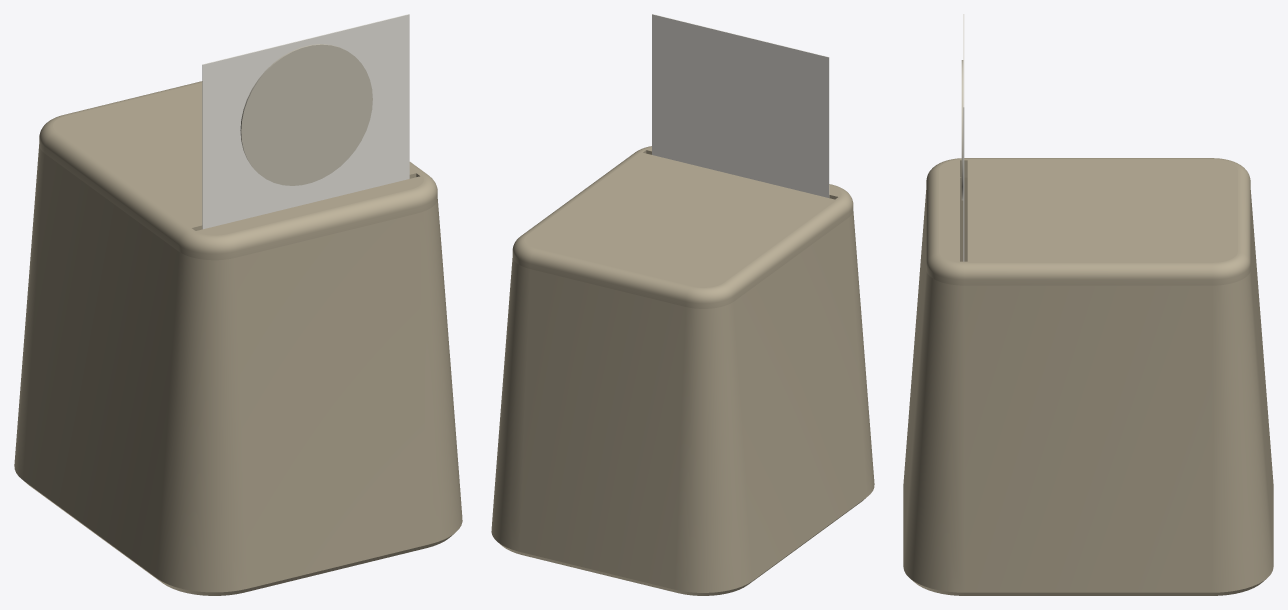
The model's file is dispenser.glb.
3 views of the same model, side by side, from view 1: azimuth 30°, elevation 25°; view 2: azimuth 150°, elevation 25°; view 3: azimuth 270°, elevation 25° (orthographic). The views are drawn at different scales.
Parts seen in each view (by area): view 1: part0_0, part1_0, part2_0, part3_0; view 2: part0_0, part1_0, part2_0; view 3: part0_0, part1_0, part2_0.
Part boxes in pixels (x1=…): part0_0: x1=14, y1=144, x2=462, y2=595; part1_0: x1=39, y1=81, x2=437, y2=260; part2_0: x1=202, y1=14, x2=409, y2=229; part3_0: x1=240, y1=44, x2=372, y2=185; part0_0: x1=491, y1=211, x2=874, y2=595; part1_0: x1=512, y1=146, x2=853, y2=308; part2_0: x1=652, y1=14, x2=829, y2=197; part0_0: x1=903, y1=177, x2=1273, y2=595; part1_0: x1=926, y1=158, x2=1250, y2=285; part2_0: x1=963, y1=14, x2=964, y2=261.
Size of the model in its own units: 0.0496 by 0.0814 by 0.058.
